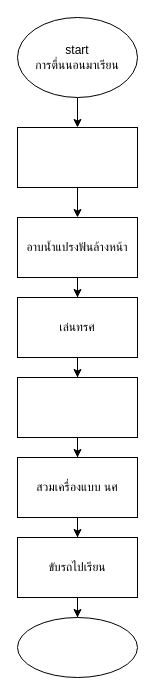
Some shapes in this 155 by 695 pixel diagram are drawn without their labels. The shapes that lost their labels are listed below. From the top down, each one's box as (x1, y1, x2, y2) in pixels, then its label:
(16, 126, 138, 188): ตื่นนอน
(16, 376, 138, 438): ไกล้ถึงเวลาเรียนสัก 20 นาที
(16, 616, 138, 678): end
